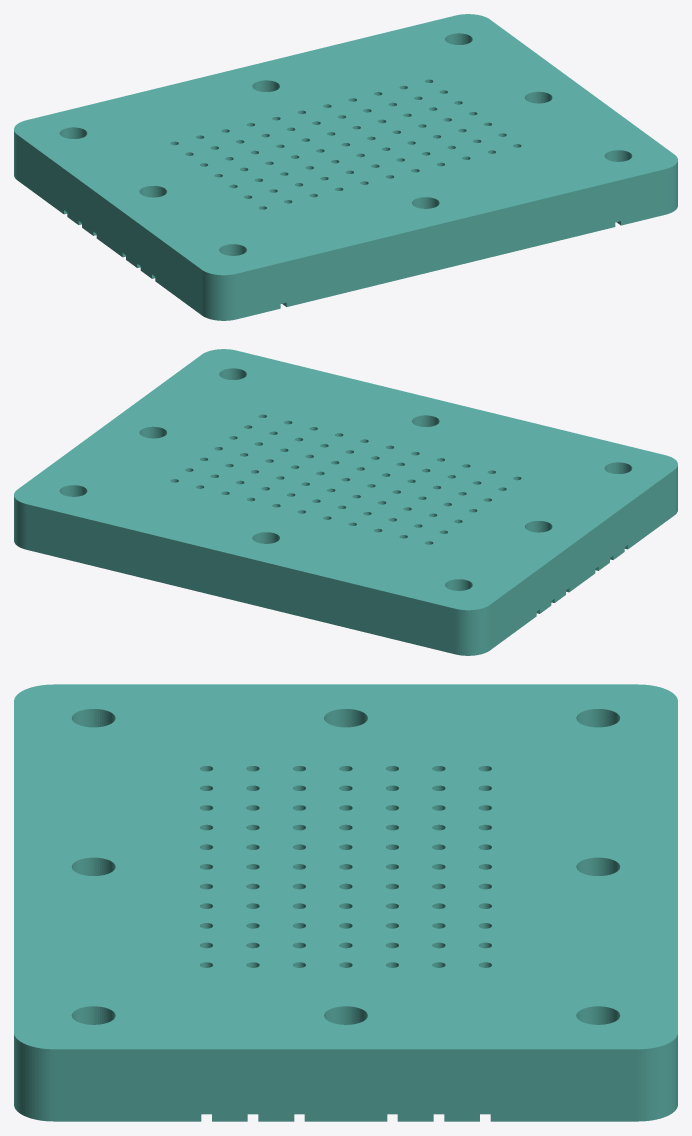
The model's file is drenazas_plaksne.glb.
The picture shows the model from 3 angles, top to bottom: view 1: azimuth 30°, elevation 25°; view 2: azimuth 150°, elevation 25°; view 3: azimuth 270°, elevation 25°; orthographic projection. The views are drawn at different scales.
Visible parts, largest first — view 1: Plate_A_PETG_130x100x12mm; view 2: Plate_A_PETG_130x100x12mm; view 3: Plate_A_PETG_130x100x12mm.
Part boxes in pixels (x1=…): Plate_A_PETG_130x100x12mm: x1=14, y1=14, x2=677, y2=320; Plate_A_PETG_130x100x12mm: x1=14, y1=349, x2=677, y2=655; Plate_A_PETG_130x100x12mm: x1=14, y1=684, x2=677, y2=1121.
Bounding box in the file's own units: 0.13 × 0.012 × 0.1.
